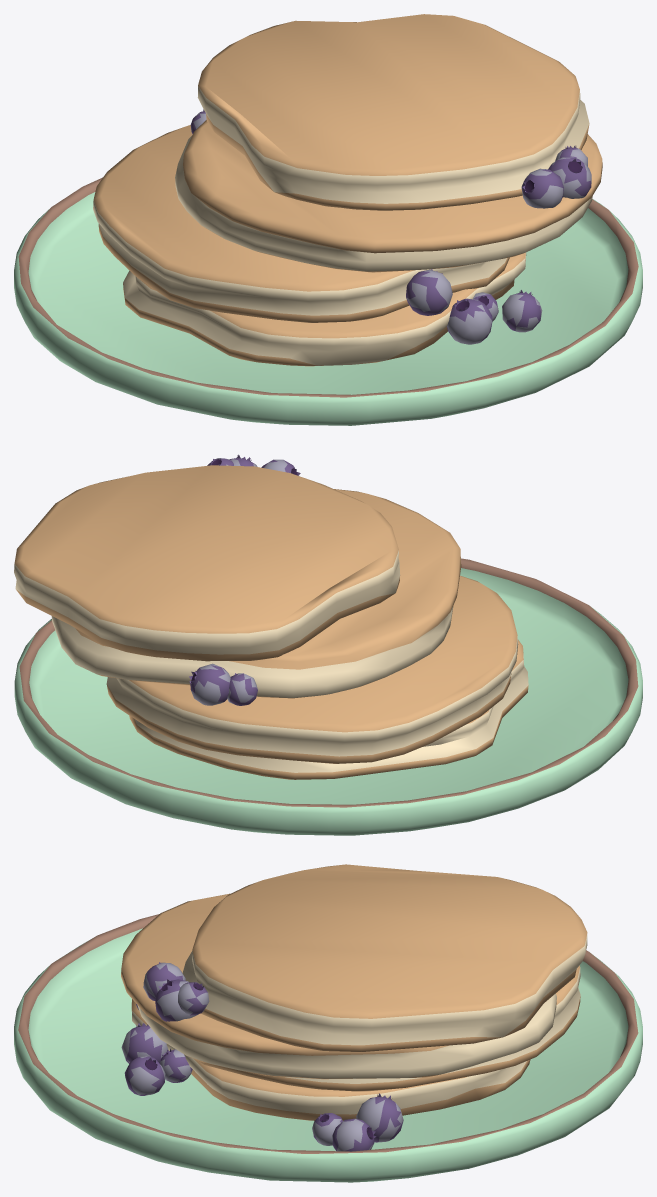
The model's file is pancake_tower_LODs.fbx.
The picture shows the model from 3 angles, top to bottom: view 1: azimuth 30°, elevation 25°; view 2: azimuth 150°, elevation 25°; view 3: azimuth 270°, elevation 25°; orthographic projection.
Visible parts, largest first — view 1: pancake_tower_LOD0; view 2: pancake_tower_LOD0; view 3: pancake_tower_LOD0.
Part boxes in pixels (x1,y1,x2,y2): pancake_tower_LOD0: (14, 14, 642, 425); pancake_tower_LOD0: (14, 454, 642, 835); pancake_tower_LOD0: (14, 864, 642, 1182).
Size of what is drawn, in the model's own units: 701 by 199 by 701.
